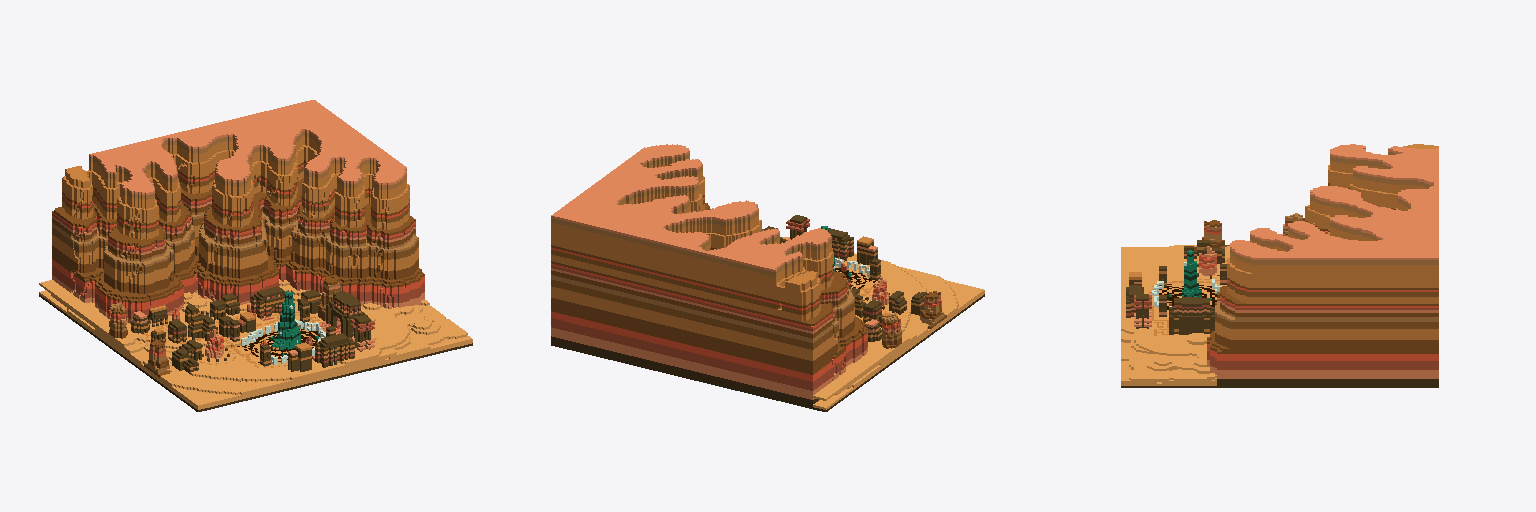
The picture shows the model from 3 angles: view 1: azimuth 30°, elevation 25°; view 2: azimuth 150°, elevation 25°; view 3: azimuth 270°, elevation 25°; orthographic projection.
Parts seen in each view (by area): view 1: clay-canyon; view 2: clay-canyon; view 3: clay-canyon.
Part boxes in pixels (x1,y1,x2,y2): clay-canyon: (39, 100, 472, 411); clay-canyon: (551, 144, 984, 411); clay-canyon: (1121, 144, 1438, 387).
Bounding box in the file's own units: 126 × 57 × 126.
1 materials, 1 textured.